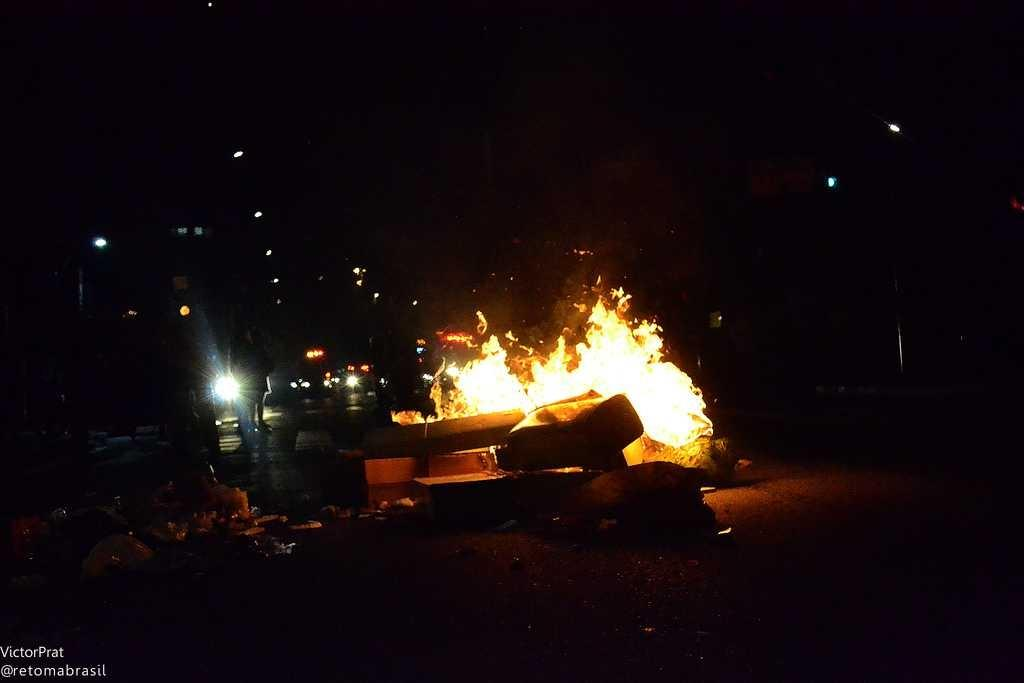fire: (645, 365, 697, 442), (455, 350, 517, 408), (573, 323, 623, 387)
